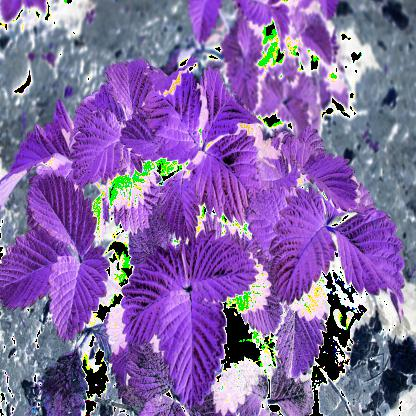strawberry leaf: (162, 289, 228, 405), (332, 211, 409, 309), (268, 194, 336, 304), (118, 241, 186, 344), (195, 130, 265, 227), (146, 66, 207, 164), (25, 172, 98, 253), (49, 257, 109, 346), (201, 58, 261, 147), (178, 237, 258, 303), (12, 228, 72, 314), (71, 104, 130, 187), (297, 145, 358, 214), (107, 45, 153, 117)
